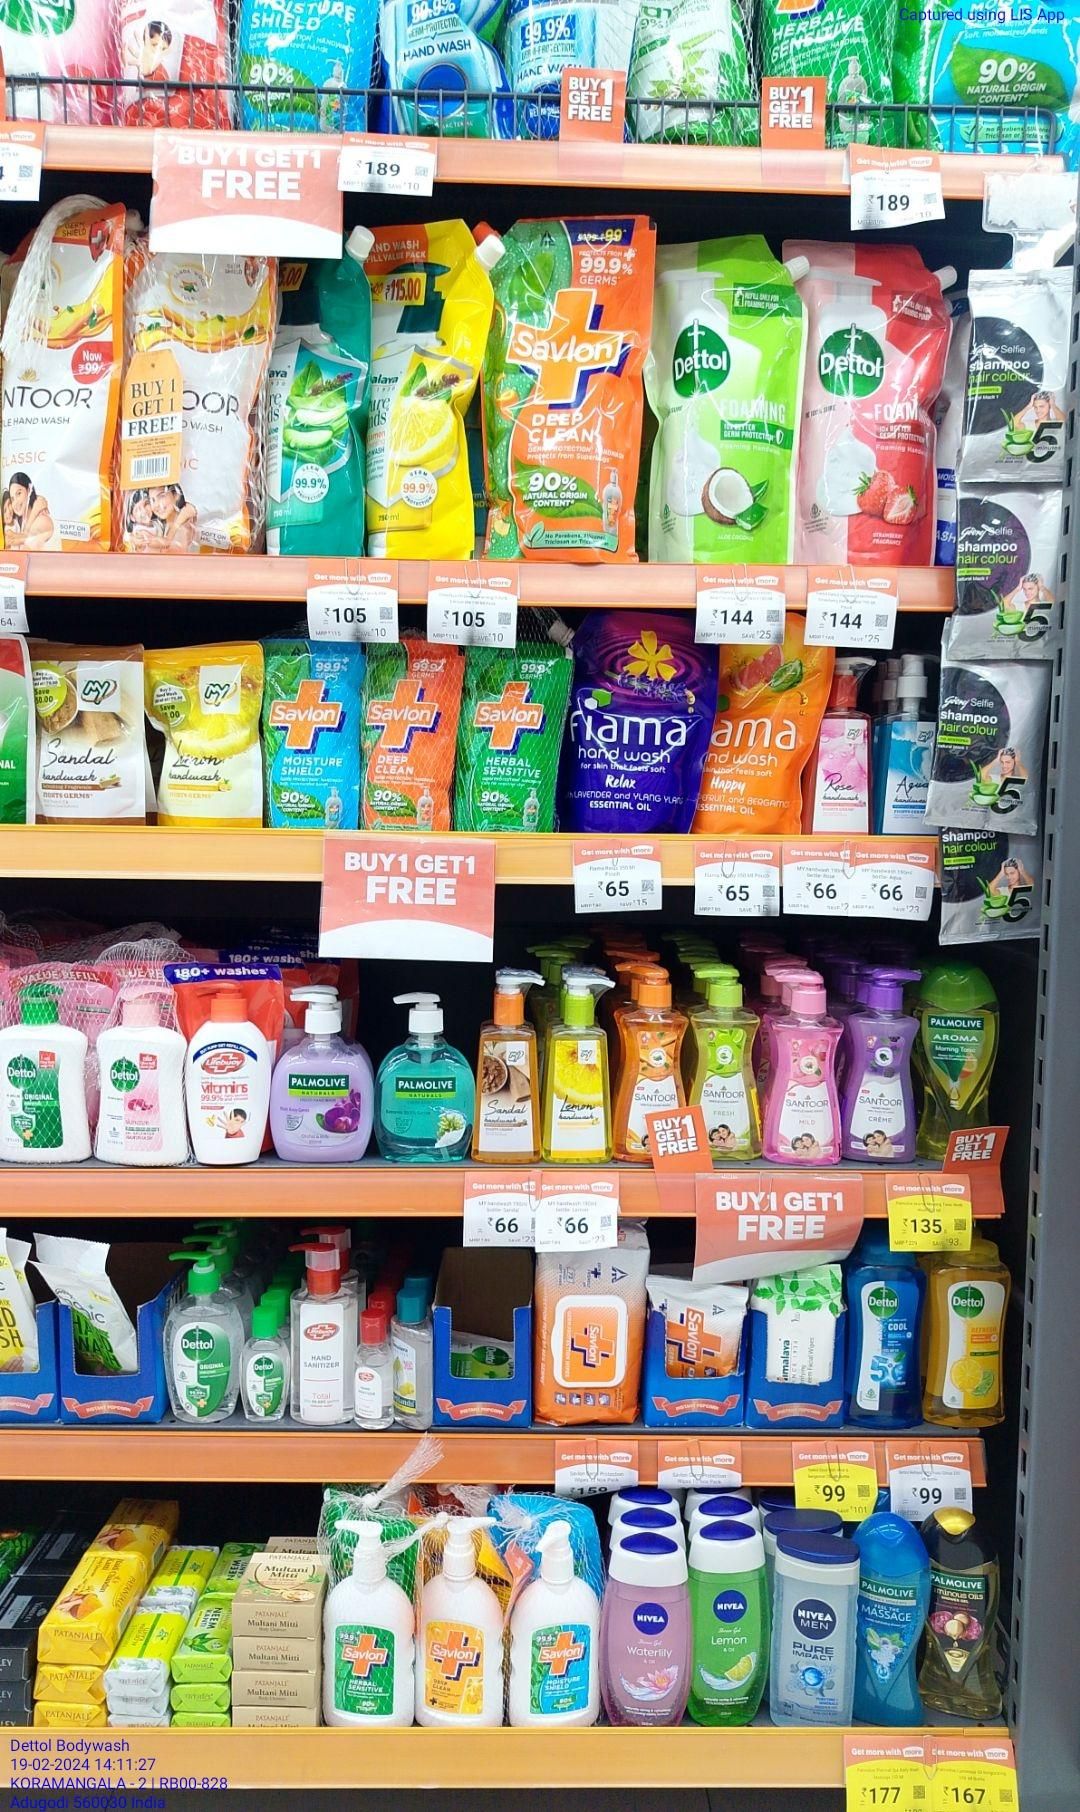Dettol_Bodywash_Cool: (852, 1239, 926, 1426)
Dettol_Bodywash_Refresh: (928, 1244, 1012, 1424)
Nivea_Shower_Gel_Lemon_and_Oil_250ML: (692, 1531, 766, 1721)
Nivea_Shower_Gel_Waterlily_and_Oil_250ML: (602, 1532, 687, 1726)
Palmolive_Aroma_Moments_Feel_The_Massage_Shower_Gel_250ML: (859, 1513, 930, 1728)
Palmolive_Aroma_Morning_Tonic_Shower_Gel_250ML: (922, 968, 1003, 1159)
